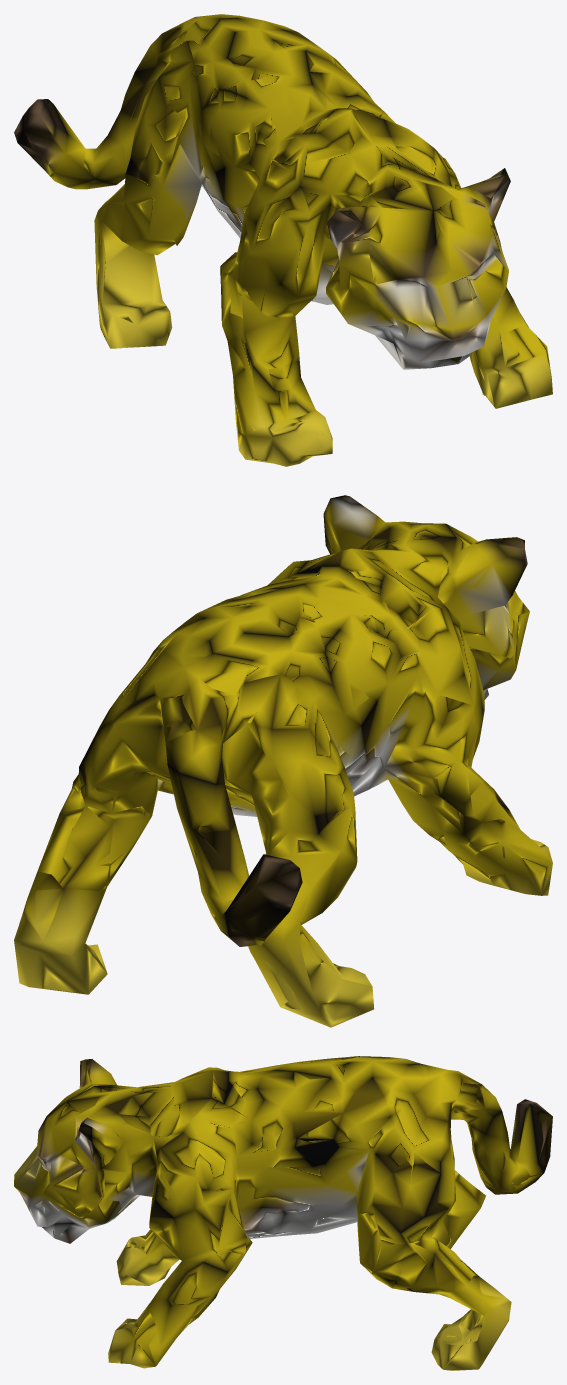
The model's file is gen3d-jaguar-lod0.glb.
The picture shows the model from 3 angles, top to bottom: view 1: azimuth 30°, elevation 25°; view 2: azimuth 150°, elevation 25°; view 3: azimuth 270°, elevation 25°; orthographic projection. The views are drawn at different scales.
Visible parts, largest first — view 1: part_0; view 2: part_0; view 3: part_0.
Part boxes in pixels (<box>): part_0: <box>14,14,552,466</box>; part_0: <box>14,495,552,1027</box>; part_0: <box>14,1056,552,1370</box>.
Size of the model in its own units: 1.06 by 0.9998 by 1.9.
